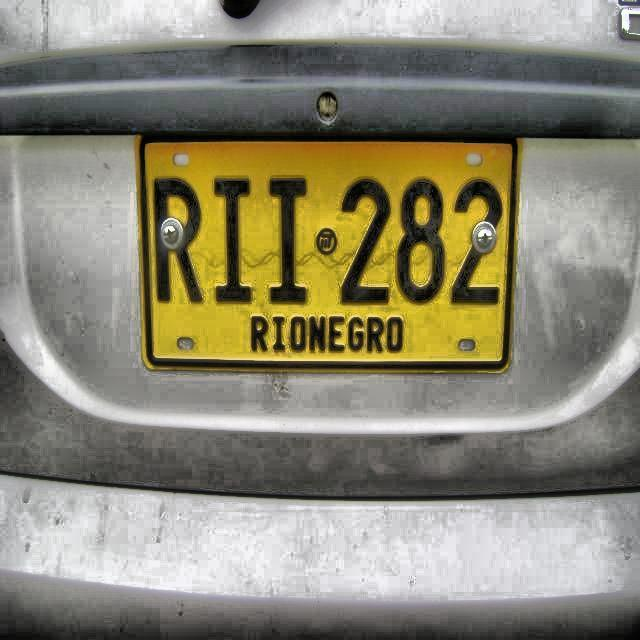plate: (141, 143, 516, 365)
